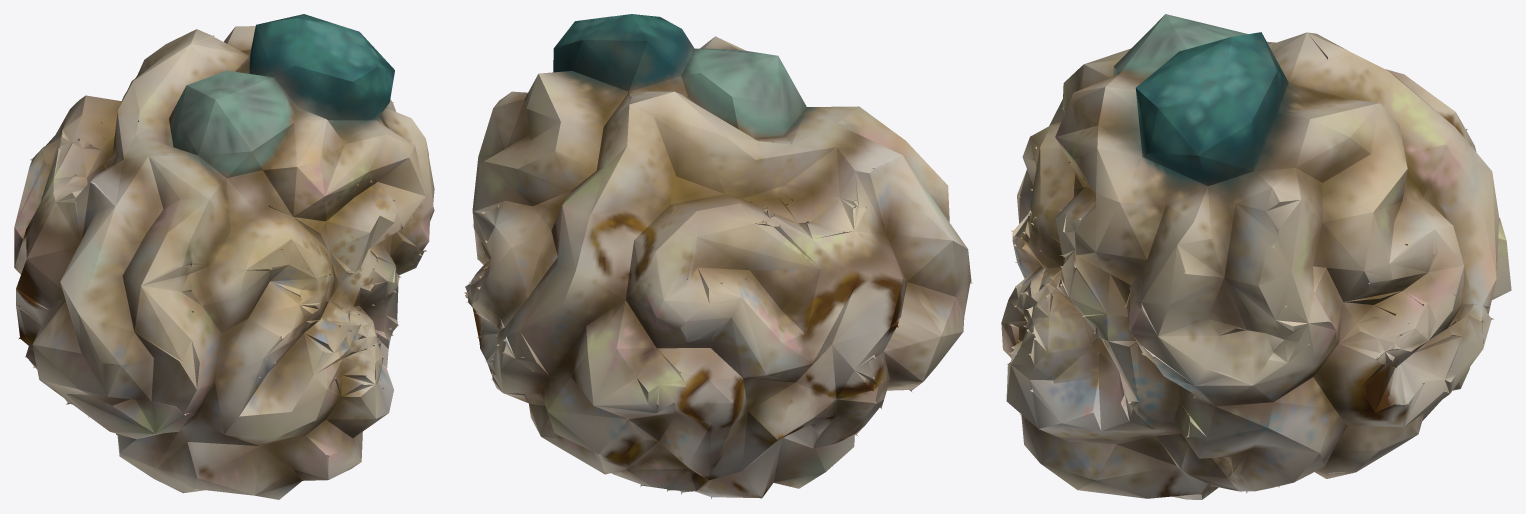
File: chernobog_growth_02.fbx
3 views of the same model, side by side, from view 1: azimuth 30°, elevation 25°; view 2: azimuth 150°, elevation 25°; view 3: azimuth 270°, elevation 25° (orthographic). The views are drawn at different scales.
Visible parts, largest first — view 1: Chernobog_Growth_02; view 2: Chernobog_Growth_02; view 3: Chernobog_Growth_02.
Part boxes in pixels (<box>): Chernobog_Growth_02: <box>14,14,434,499</box>; Chernobog_Growth_02: <box>464,14,972,498</box>; Chernobog_Growth_02: <box>1001,14,1511,499</box>.
Size of the model in its own units: 122 by 127 by 117.
